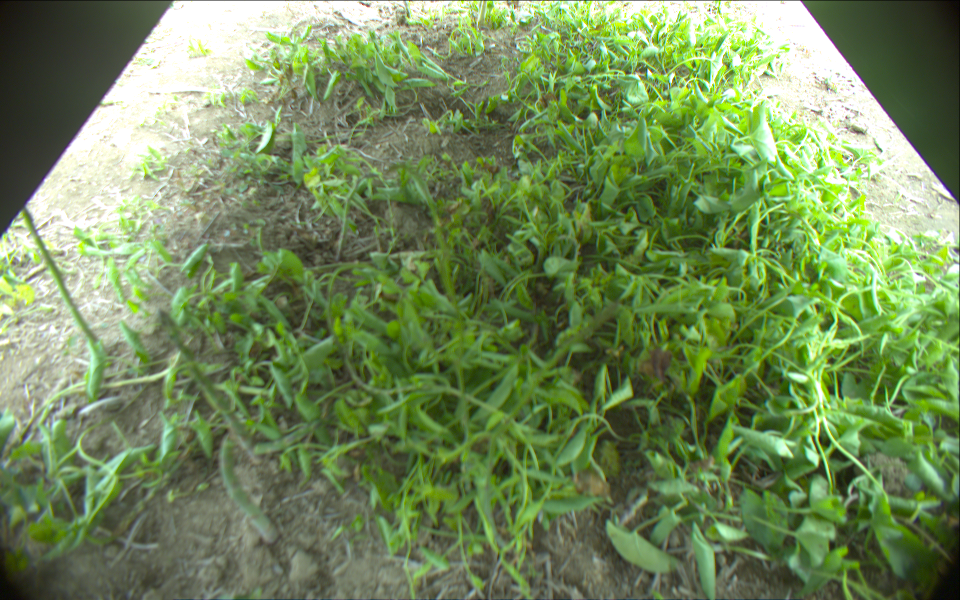aspa: (159, 306, 257, 456), (17, 201, 99, 347), (216, 426, 281, 541), (479, 1, 489, 30), (400, 1, 412, 19)
